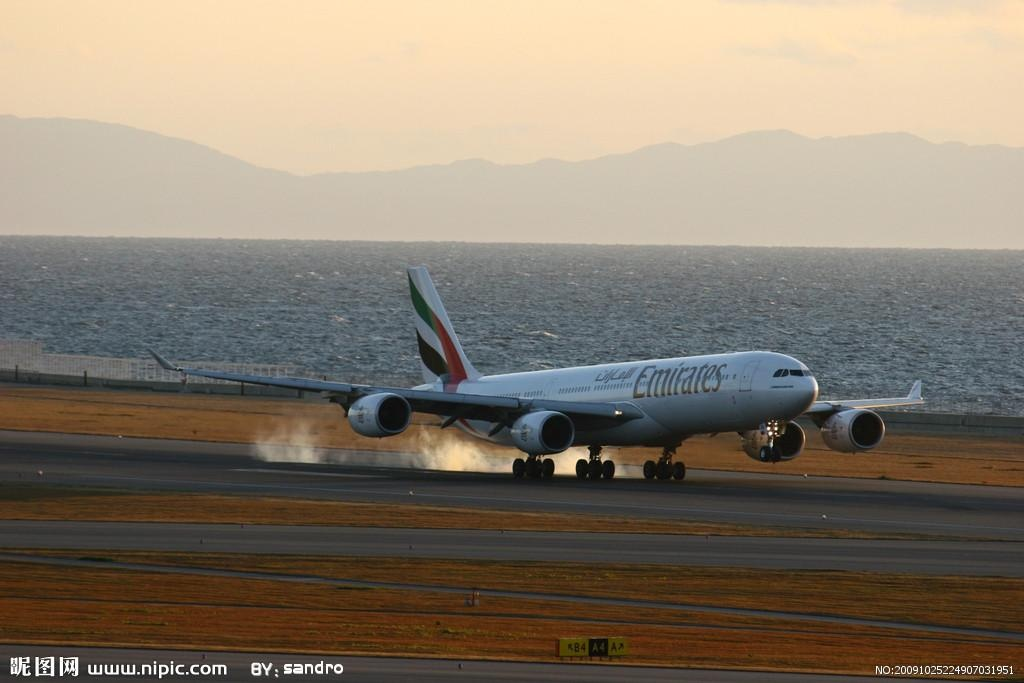airplane: (137, 262, 933, 459)
